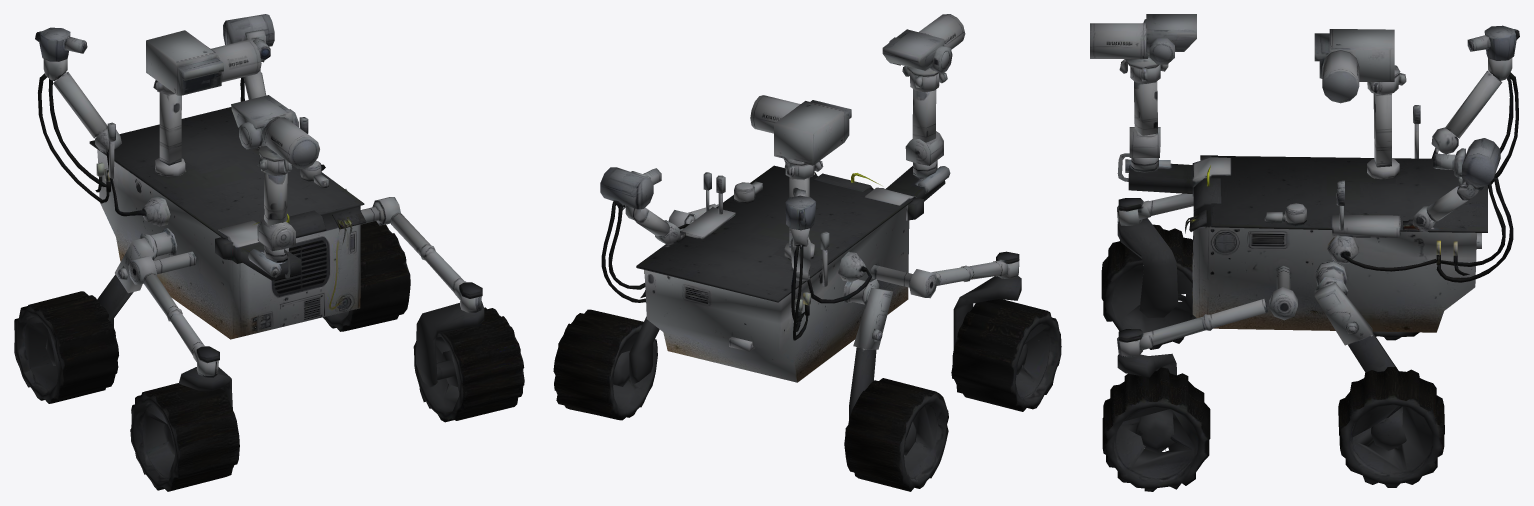
The model's file is 019e1857-9288-7e49-a65b-53cacb33c92a.glb.
The picture shows the model from 3 angles, left to right: view 1: azimuth 30°, elevation 25°; view 2: azimuth 150°, elevation 25°; view 3: azimuth 270°, elevation 25°; orthographic projection. The views are drawn at different scales.
Parts seen in each view (by area): view 1: tripo_node_0989786f-9b61-4188-bf1f-723cf8e9ce0a; view 2: tripo_node_0989786f-9b61-4188-bf1f-723cf8e9ce0a; view 3: tripo_node_0989786f-9b61-4188-bf1f-723cf8e9ce0a.
Boxes of the visible parts, box(x1,y1,x2,y2) form: tripo_node_0989786f-9b61-4188-bf1f-723cf8e9ce0a: box(14, 14, 524, 491); tripo_node_0989786f-9b61-4188-bf1f-723cf8e9ce0a: box(553, 14, 1061, 491); tripo_node_0989786f-9b61-4188-bf1f-723cf8e9ce0a: box(1090, 14, 1519, 491).
Size of the model in its own units: 0.9629 by 0.9121 by 0.998.
Materials: 1 (1 with a texture image).
